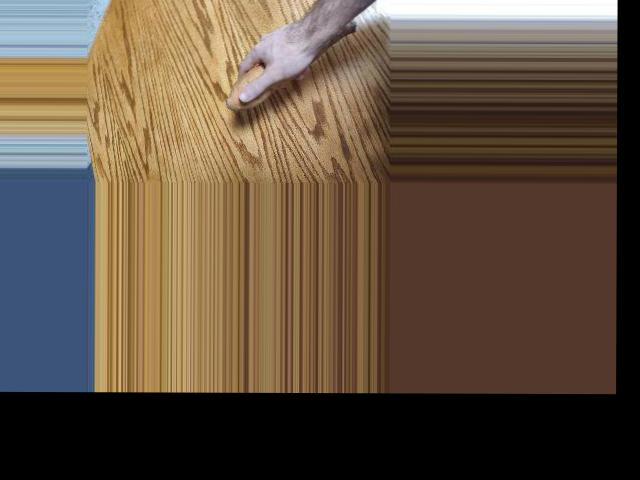sweet_potato: (226, 18, 360, 111)
